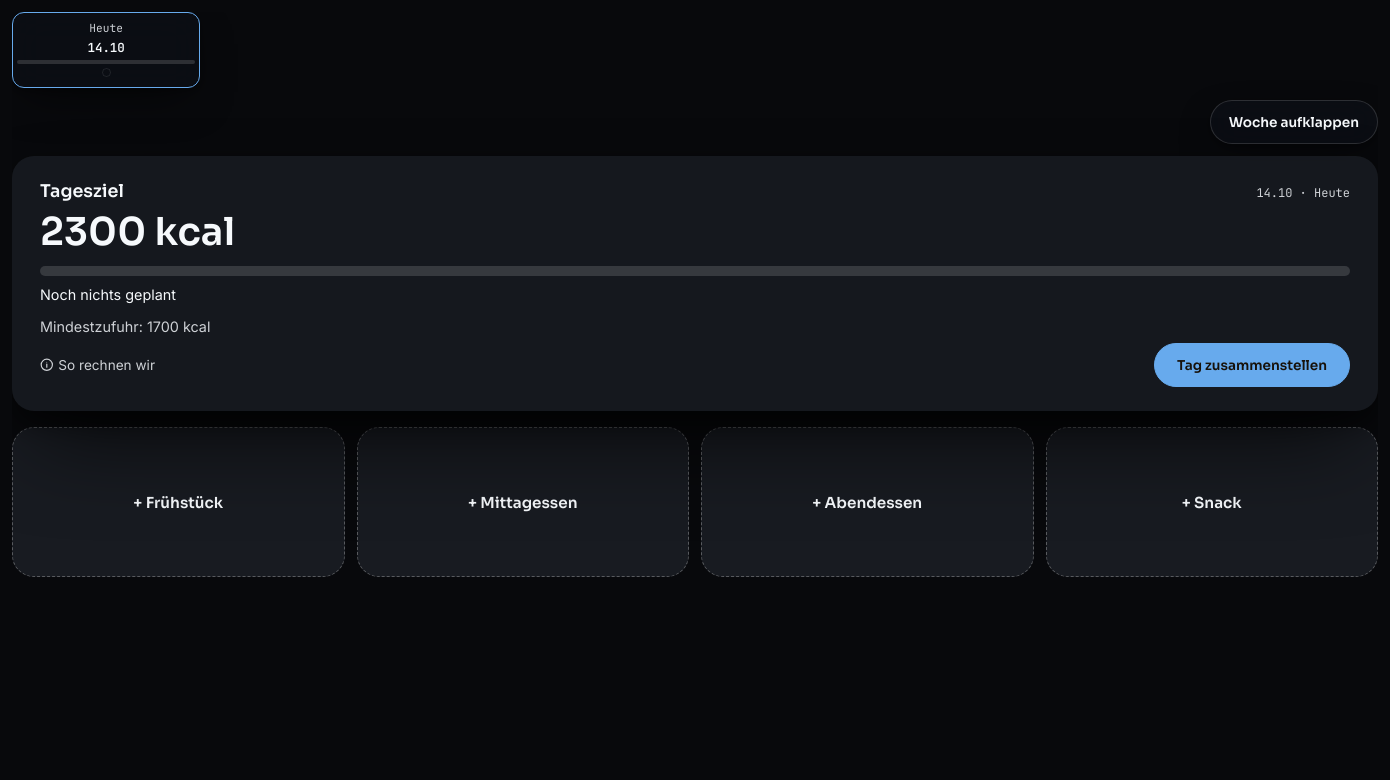
Test case: WeekView — Tag zusammenstellen, Tauschen, Entfernen › zeigt einen Fehler aus dem Hook sichtbar an, statt still zu scheitern
What coordinates should you click on to do the following:
click the button "Tag zusammenstellen"
I would click on:
 (1252, 365)
Its box is top-left (1154, 343), bottom-right (1350, 387).
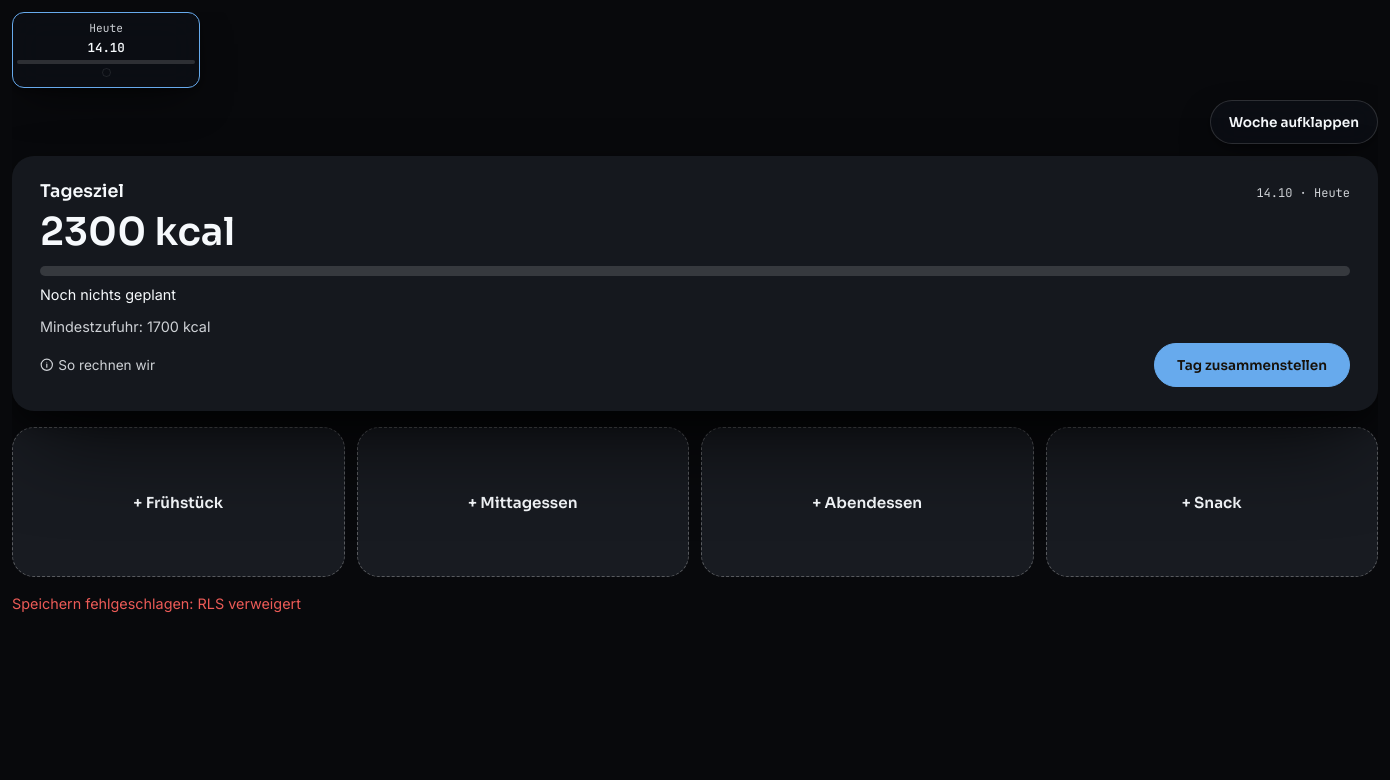
Check: the message reads "Speichern fehlgeschlagen: RLS verweigert", box top-left (12, 595), bottom-right (301, 612)
